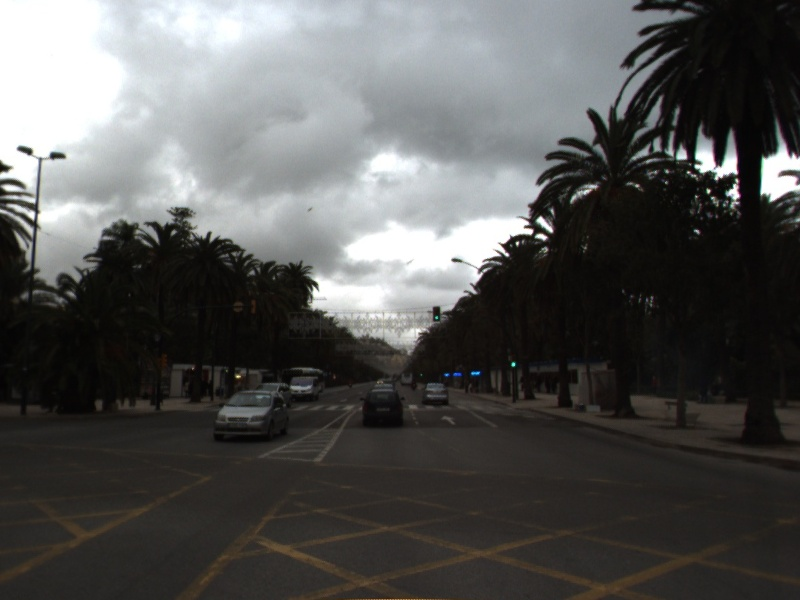STRAIGHT: (438, 413, 459, 427)
